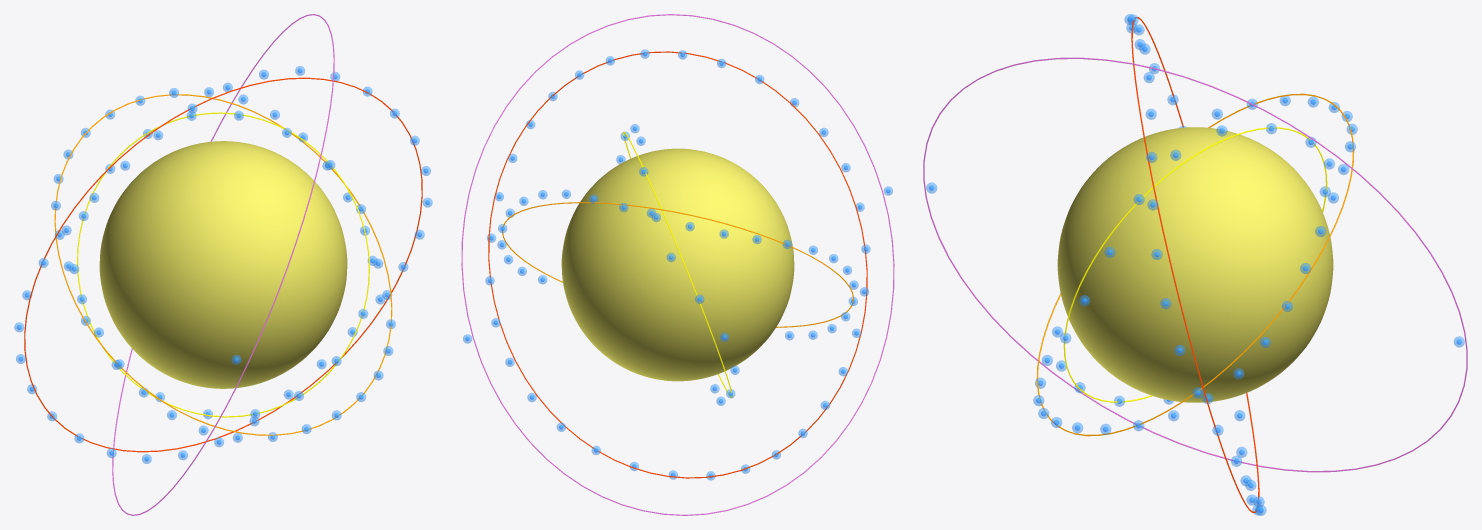
The picture shows the model from 3 angles, left to right: view 1: azimuth 30°, elevation 25°; view 2: azimuth 150°, elevation 25°; view 3: azimuth 270°, elevation 25°; orthographic projection. The views are drawn at different scales.
Parts seen in each view (by area): view 1: Pu, object 126, object 61, object 191, object 24; view 2: Pu, object 191, object 126, object 61, object 24; view 3: Pu, object 191, object 126, object 61, object 24.
Part boxes in pixels (x1,y1,x2,y2): Pu: (99,141,347,388); object 126: (24,77,422,452); object 61: (54,94,392,435); object 191: (112,14,334,515); object 24: (77,112,369,417); Pu: (561,148,794,381); object 191: (461,14,894,515); object 126: (488,51,867,478); object 61: (502,202,853,327); object 24: (623,131,732,397); Pu: (1057,127,1333,402); object 191: (923,57,1467,472); object 126: (1131,17,1259,512); object 61: (1036,93,1354,436); object 24: (1063,127,1327,402).
Size of the model in its own units: 7.33 by 7.67 by 7.7.
